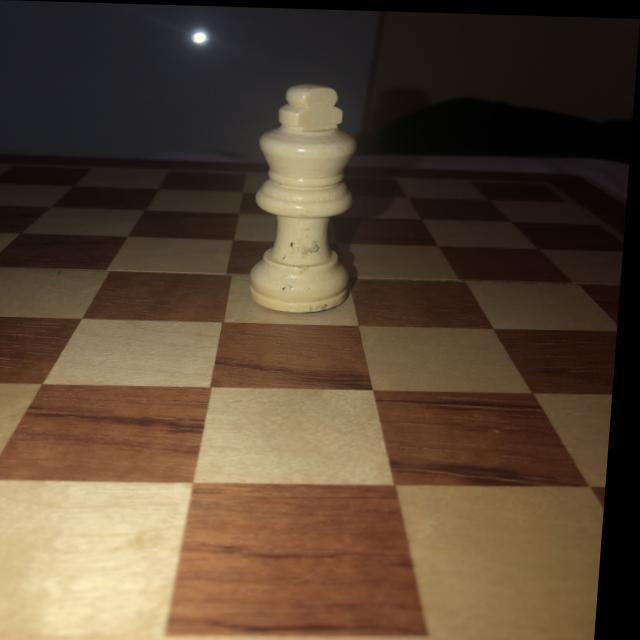white_king: (253, 81, 368, 313)
